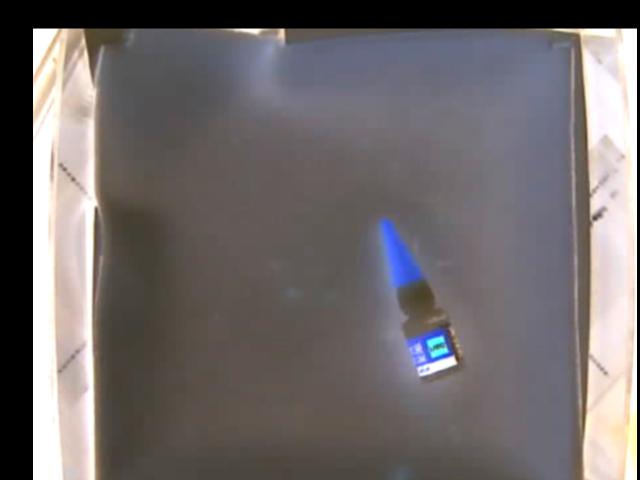Bottle: (378, 219, 462, 384)
